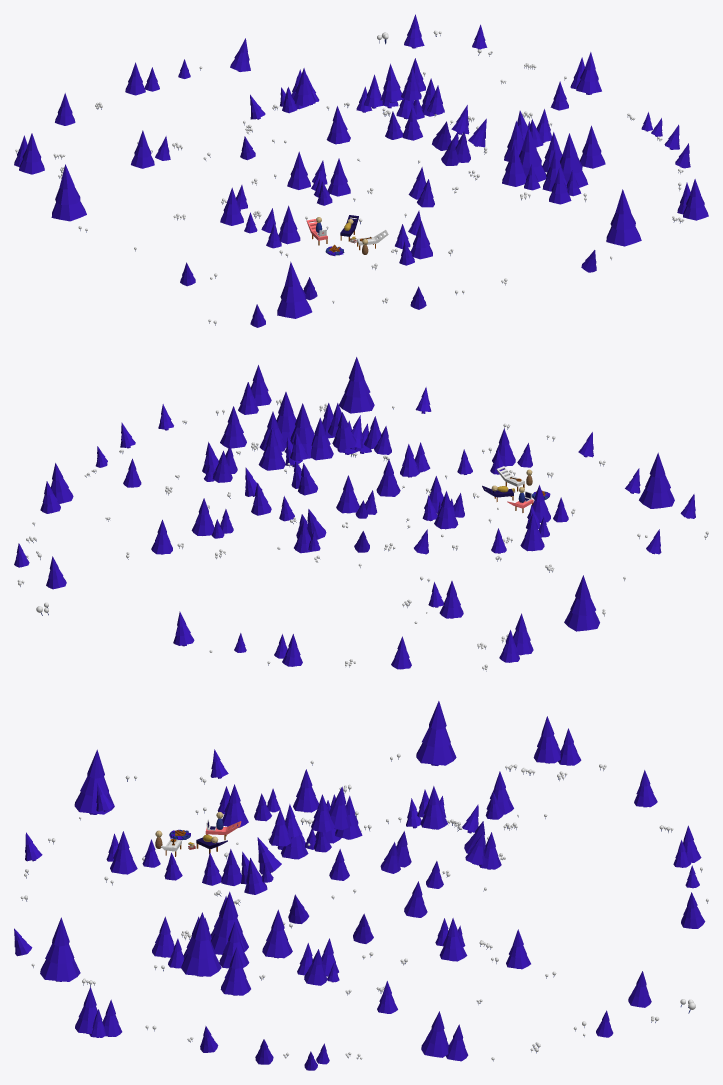
The model's file is team.glb.
3 renders of one model, top to bottom at view 1: azimuth 30°, elevation 25°; view 2: azimuth 150°, elevation 25°; view 3: azimuth 270°, elevation 25°, orthographic. The views are drawn at different scales.
Parts seen in each view (by area): view 1: Tree.030, Tree.032, Tree.036, Tree.083, Tree.077, Tree.088, Tree.078, Tree.025, Tree.039, Tree.014, Tree.051, Tree.015 (+7 smaller); view 2: Tree.030, Tree.032, Tree.036, Tree.077, Tree.079, Tree.088, Tree.083, Tree.078, Tree.003, Tree.081, Tree.051, Tree.018 (+6 smaller); view 3: Tree.030, Tree.083, Tree.036, Tree.032, Tree.077, Tree.088, Tree.079, Tree.014, Tree.039, Tree, Tree.052, Tree.055 (+4 smaller).
Boxes of the visible parts, x1=… form: Tree.030: x1=606, y1=189, x2=641, y2=246; Tree.032: x1=277, y1=261, x2=312, y2=318; Tree.036: x1=51, y1=164, x2=86, y2=221; Tree.083: x1=560, y1=133, x2=588, y2=187; Tree.077: x1=519, y1=127, x2=546, y2=181; Tree.088: x1=579, y1=125, x2=605, y2=168; Tree.078: x1=502, y1=144, x2=526, y2=186; Tree.025: x1=683, y1=179, x2=708, y2=220; Tree.039: x1=19, y1=133, x2=44, y2=174; Tree.014: x1=576, y1=52, x2=601, y2=94; Tree.051: x1=326, y1=106, x2=350, y2=144; Tree.015: x1=327, y1=158, x2=350, y2=196; Tree.030: x1=339, y1=357, x2=374, y2=413; Tree.032: x1=639, y1=452, x2=674, y2=508; Tree.036: x1=564, y1=575, x2=599, y2=631; Tree.077: x1=284, y1=403, x2=314, y2=458; Tree.079: x1=258, y1=428, x2=285, y2=470; Tree.088: x1=220, y1=406, x2=246, y2=448; Tree.083: x1=276, y1=392, x2=296, y2=446; Tree.078: x1=310, y1=417, x2=333, y2=460; Tree.003: x1=332, y1=412, x2=356, y2=449; Tree.081: x1=439, y1=581, x2=463, y2=618; Tree.051: x1=376, y1=459, x2=400, y2=496; Tree.018: x1=434, y1=491, x2=458, y2=529; Tree.030: x1=40, y1=917, x2=80, y2=981; Tree.083: x1=181, y1=912, x2=221, y2=976; Tree.036: x1=416, y1=701, x2=456, y2=765; Tree.032: x1=74, y1=749, x2=114, y2=814; Tree.077: x1=211, y1=891, x2=248, y2=954; Tree.088: x1=220, y1=947, x2=250, y2=995; Tree.079: x1=262, y1=909, x2=292, y2=958; Tree.014: x1=421, y1=1011, x2=448, y2=1057; Tree.039: x1=533, y1=716, x2=560, y2=763; Tree: x1=420, y1=786, x2=447, y2=829; Tree.052: x1=439, y1=918, x2=467, y2=961; Tree.055: x1=110, y1=831, x2=137, y2=874.
Bounding box in the file's own units: 29.05 × 6.41 × 27.69.
